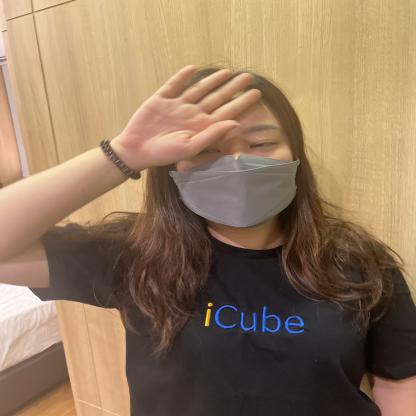Sick: (97, 48, 277, 225)
